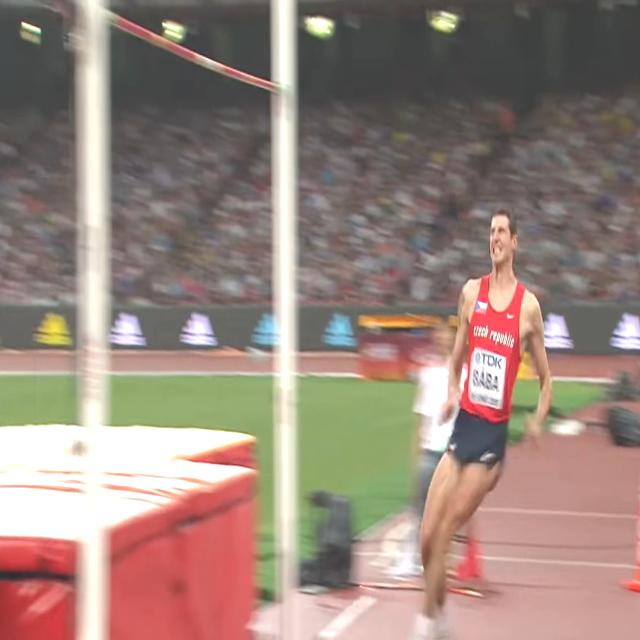run: (398, 203, 553, 640)
